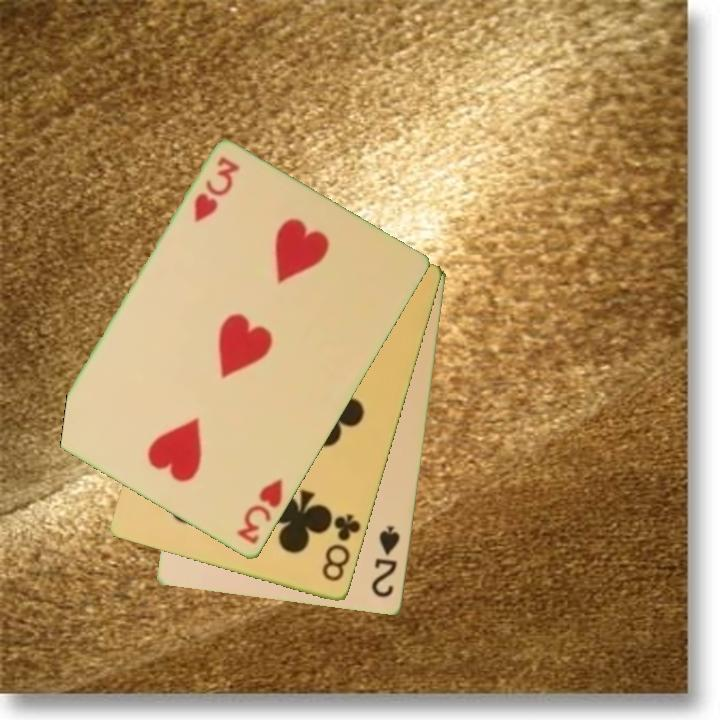2s: (368, 522, 403, 601)
3h: (233, 475, 286, 548), (190, 153, 243, 226)
8c: (318, 510, 365, 585)
